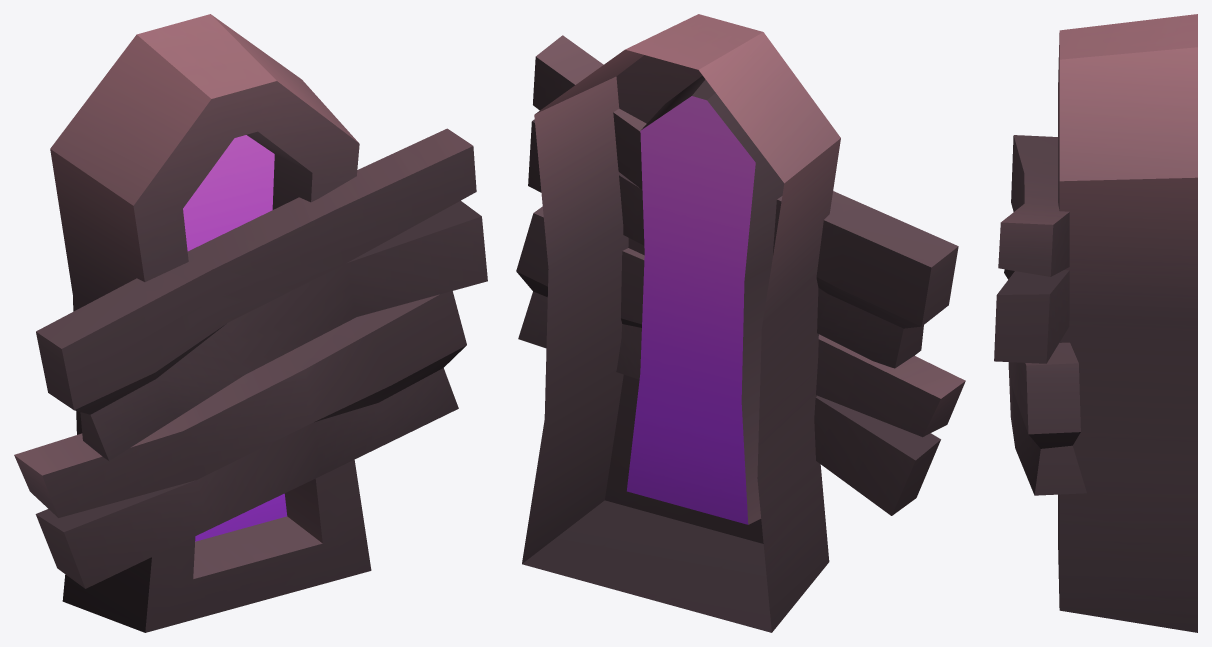
The model's file is undead_window_plank_2.fbx.
The picture shows the model from 3 angles, left to right: view 1: azimuth 30°, elevation 25°; view 2: azimuth 150°, elevation 25°; view 3: azimuth 270°, elevation 25°; orthographic projection.
Parts seen in each view (by area): view 1: undead_window_plank_2; view 2: undead_window_plank_2; view 3: undead_window_plank_2.
Part boxes in pixels (box(x1,y1,x2,y2)): undead_window_plank_2: box(14, 14, 487, 632); undead_window_plank_2: box(516, 14, 965, 632); undead_window_plank_2: box(994, 14, 1197, 632).
Size of the model in its own units: 1.62 by 1.98 by 0.6724.
